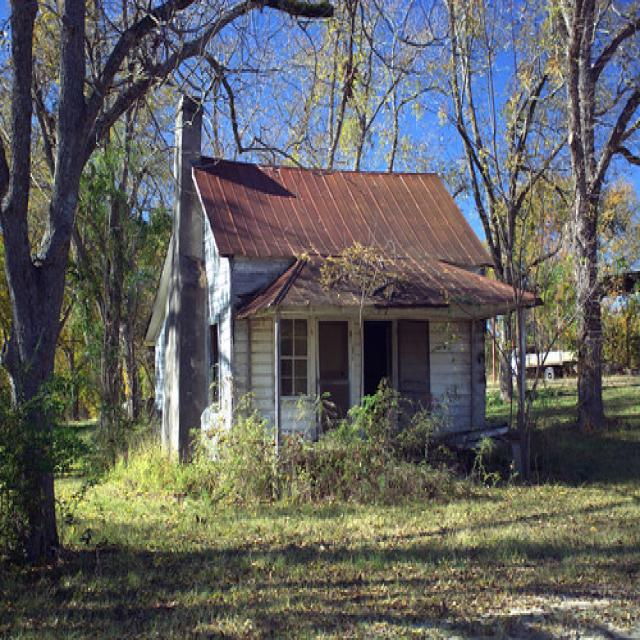Normal_building: (145, 93, 514, 491)
